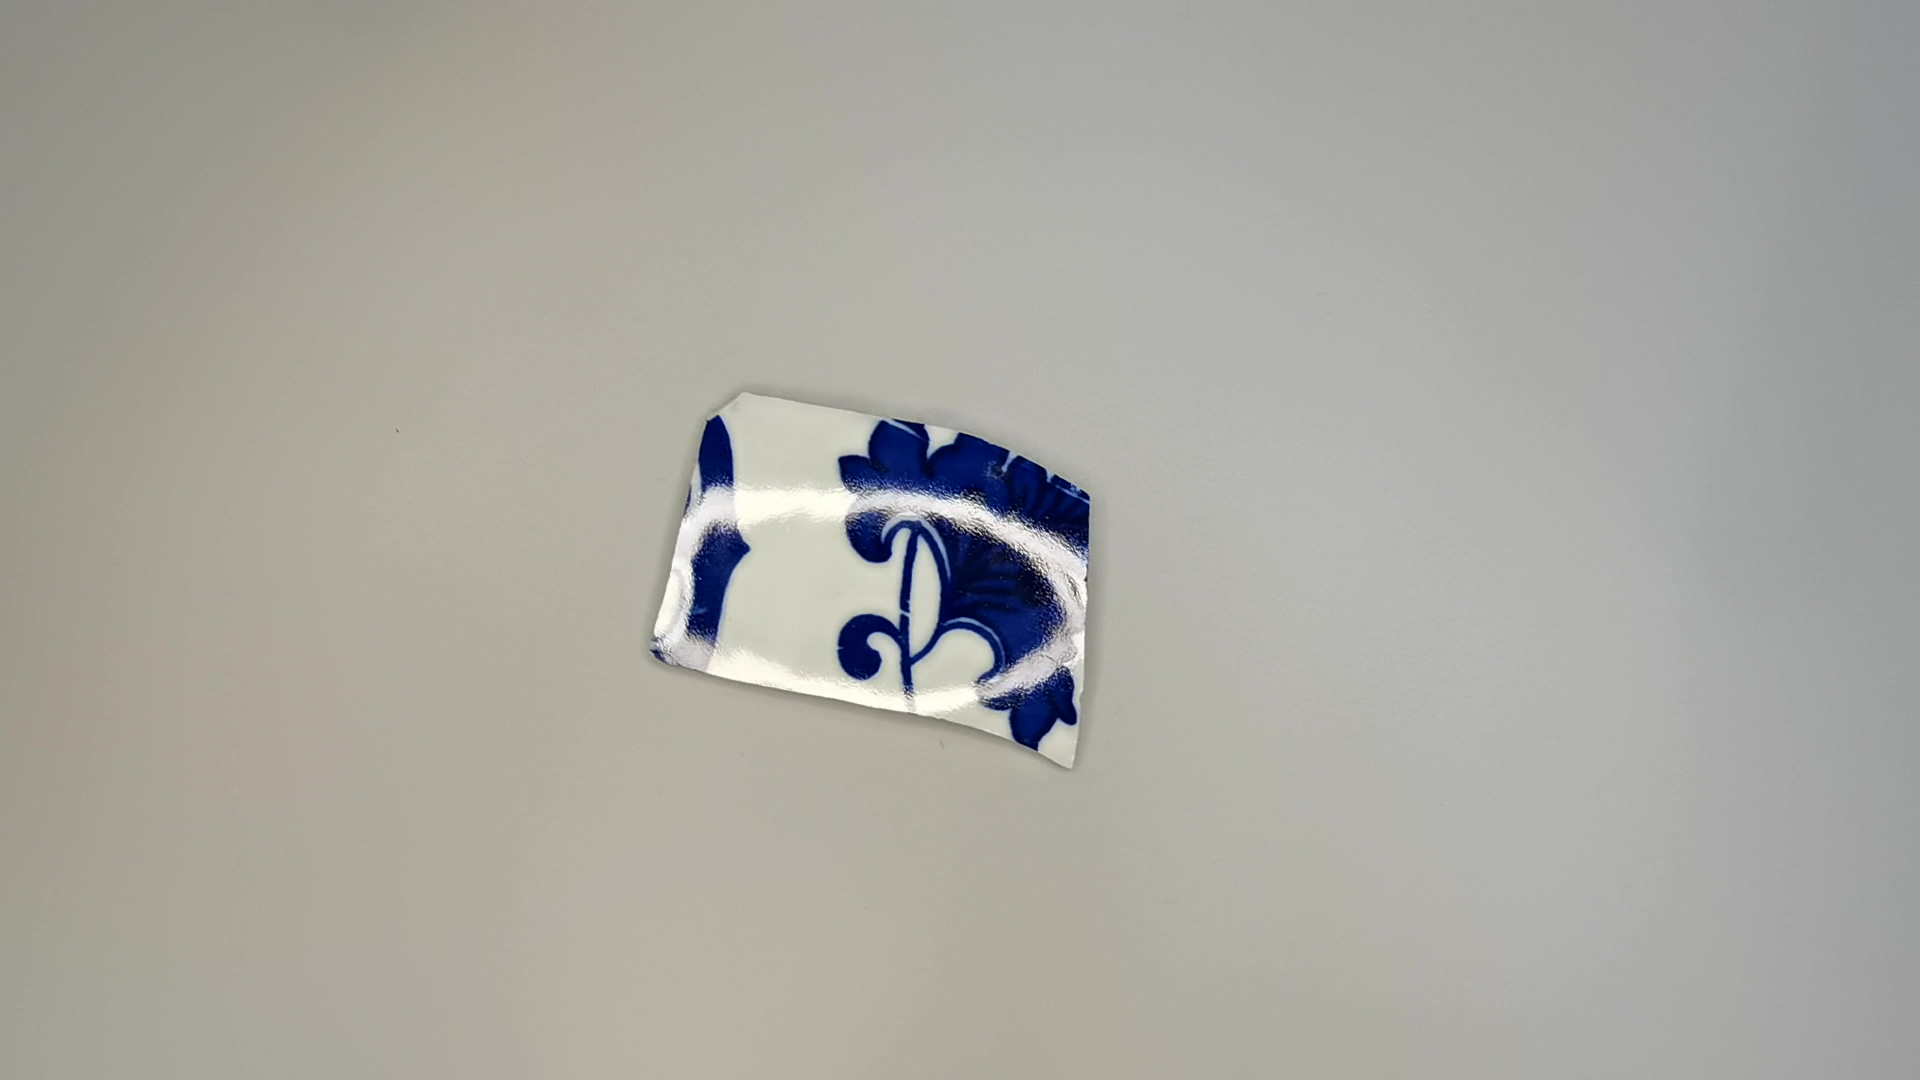ceramic: (641, 382, 1097, 775)
